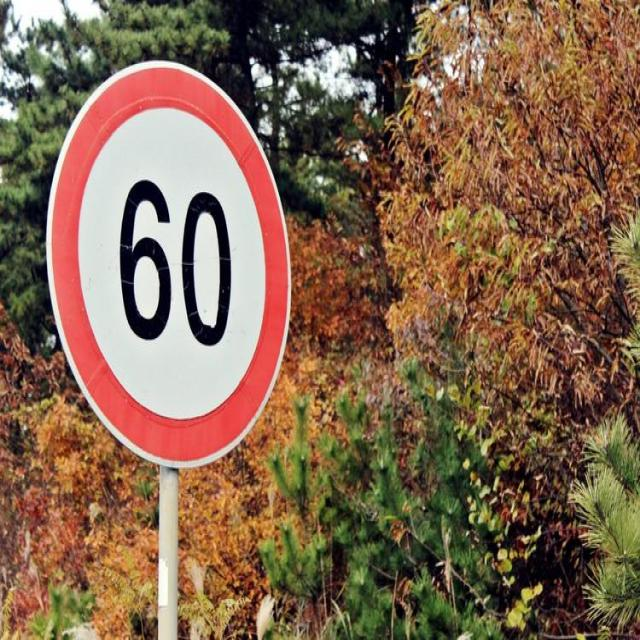speed limit 60: (48, 60, 292, 471)
